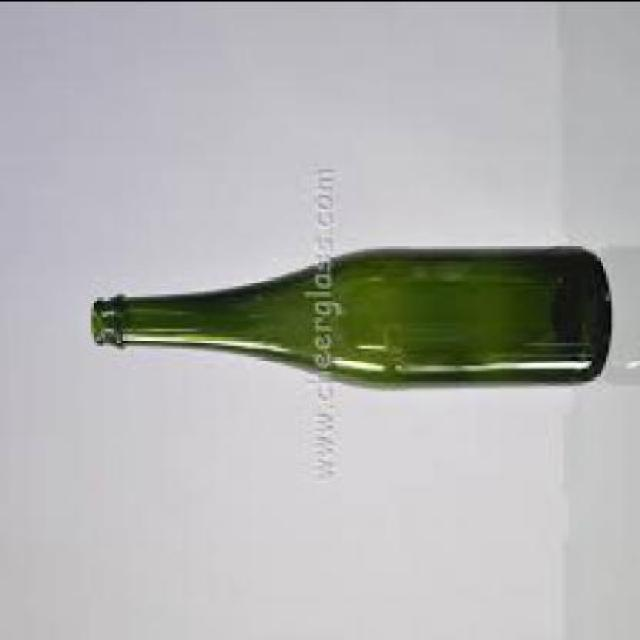GLASS: (89, 248, 608, 392)
